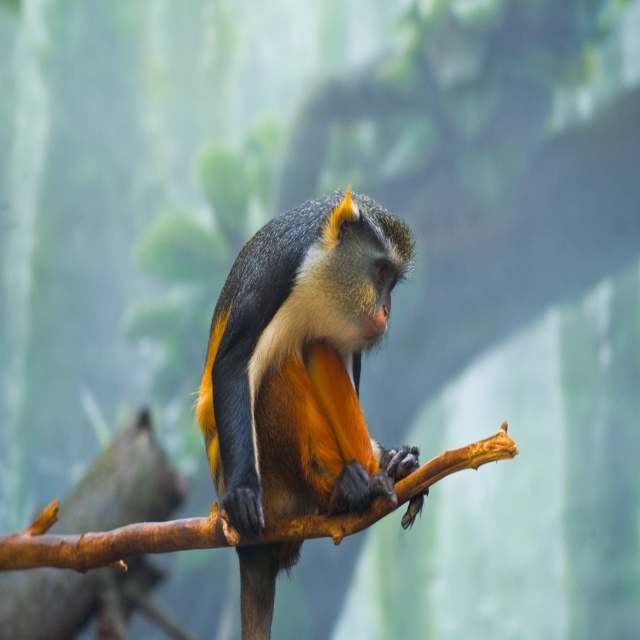Monkey: (186, 183, 429, 640)
